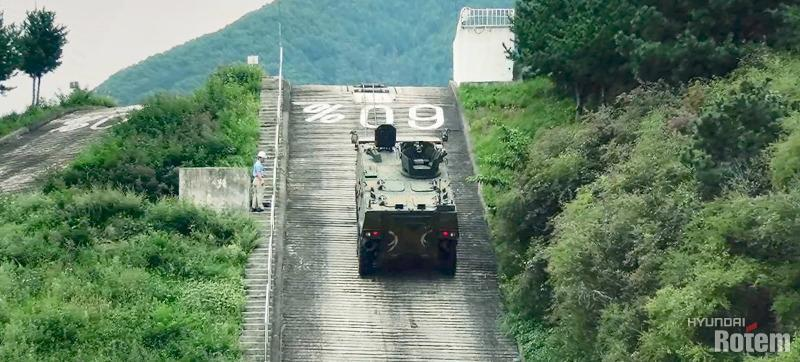MIL_IFV: (350, 125, 457, 281)
